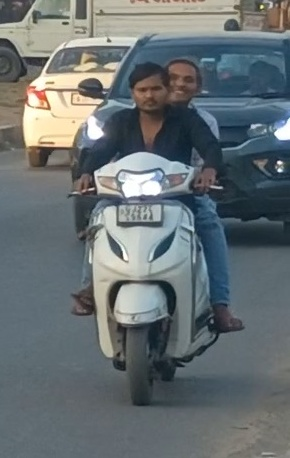BikeWithRider: (60, 51, 251, 409)
NoHelmet: (122, 59, 175, 115), (156, 54, 208, 109)
